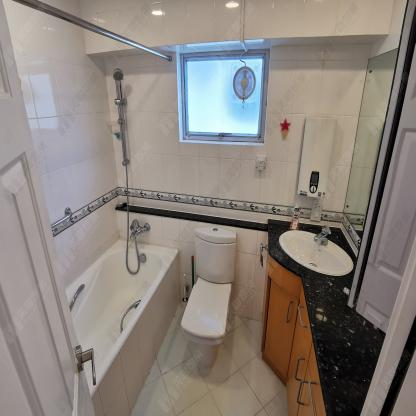Bathtub: (65, 236, 181, 416)
Exhaust Fan: (231, 63, 258, 103)
Toilet: (180, 226, 236, 367)
Toilet Sink: (268, 219, 357, 286)
